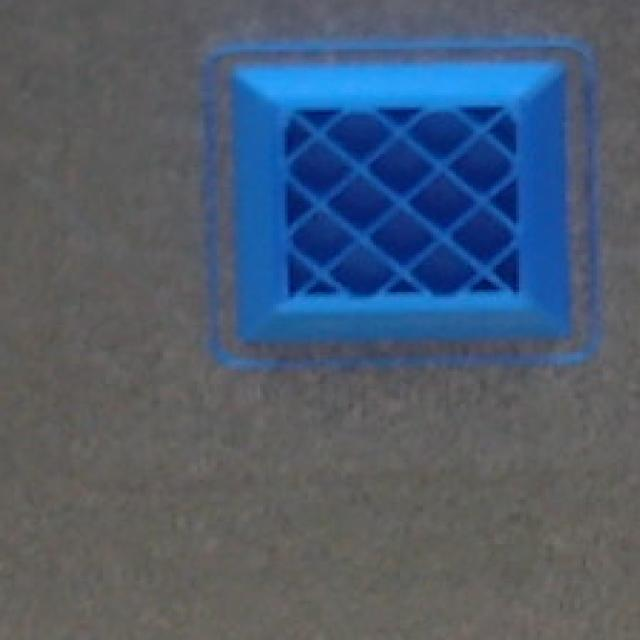noMistake: (234, 61, 588, 349)
